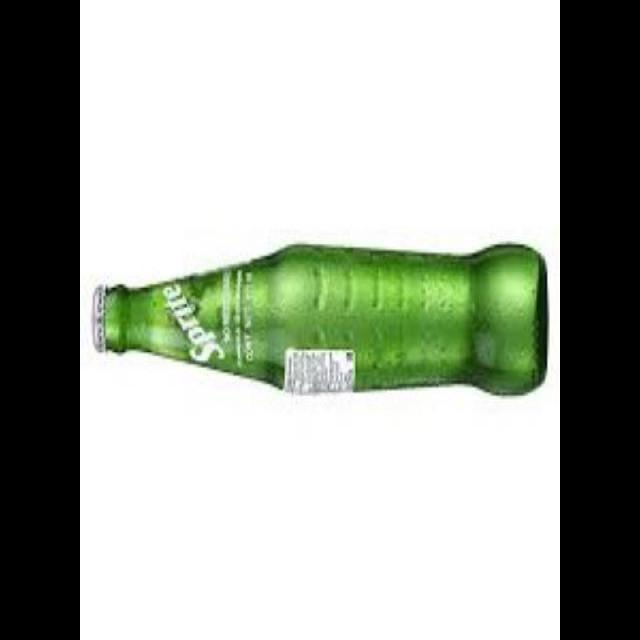Glass: (91, 238, 549, 398)
